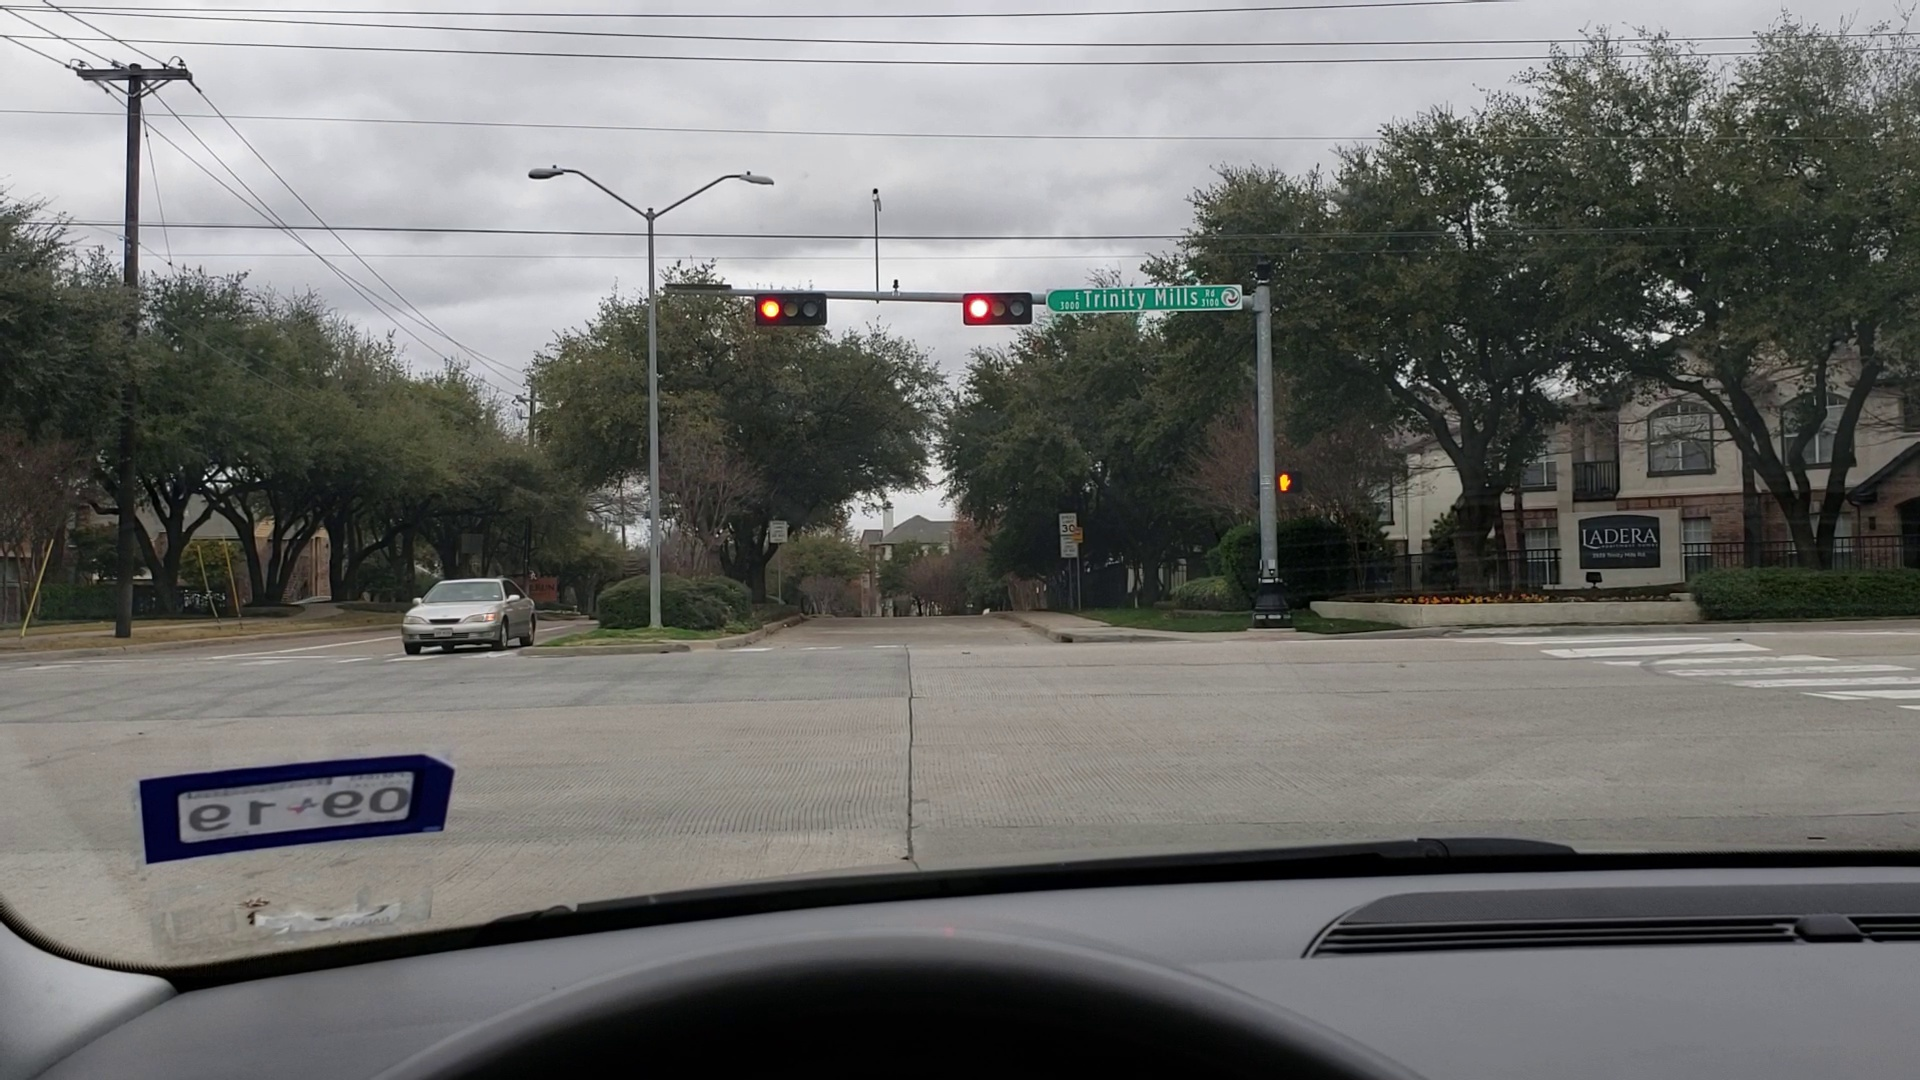car: (398, 580, 535, 650)
traffic light: (965, 289, 1040, 331), (756, 287, 827, 324)
